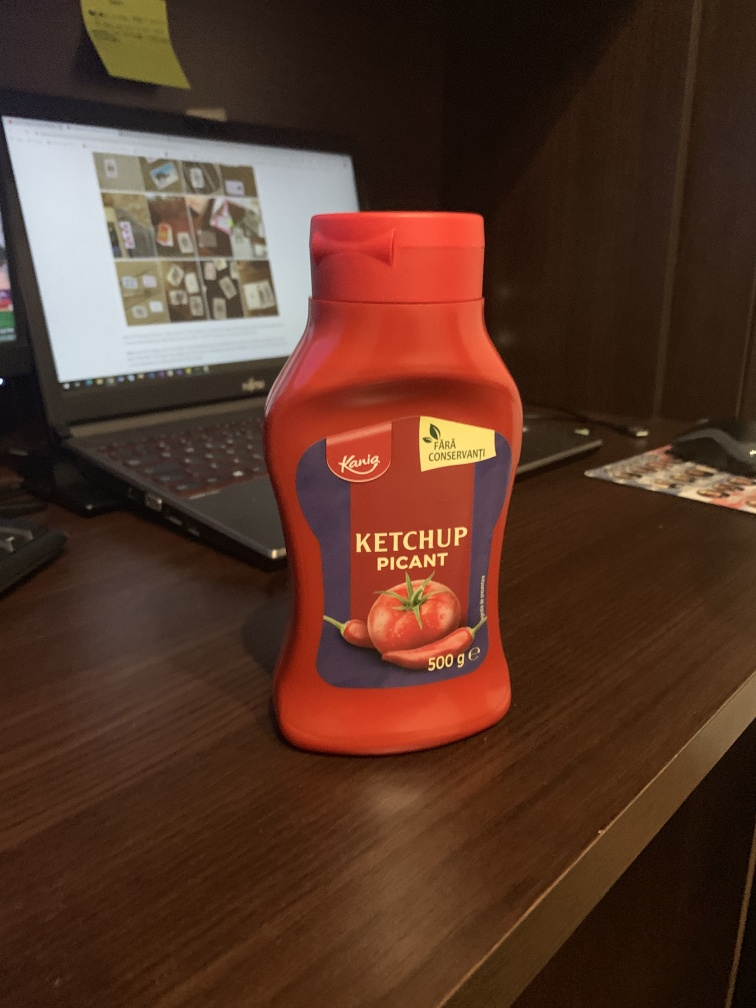ketchup: (255, 205, 525, 771)
